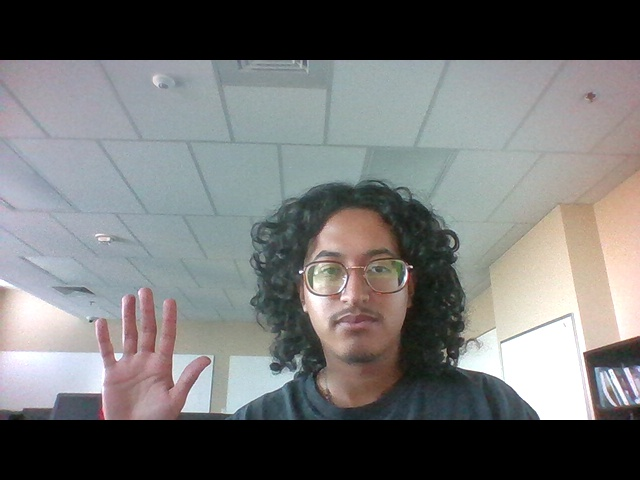hello: (84, 282, 216, 420)
